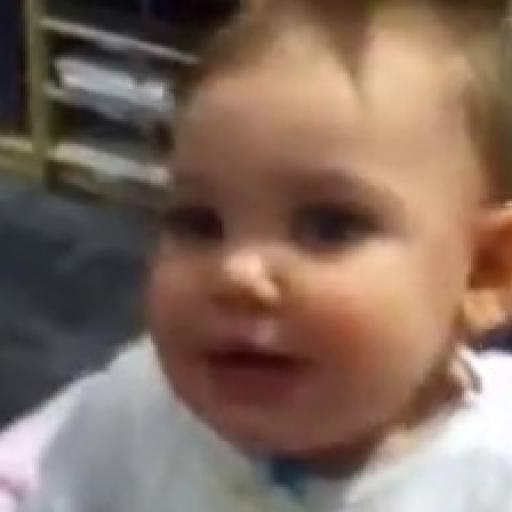Autism: (162, 10, 506, 498)
